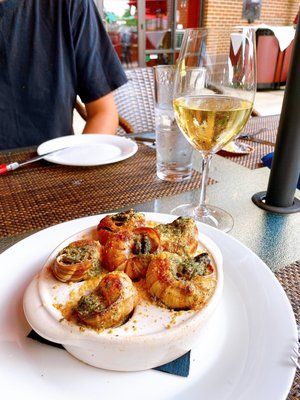pizza: (153, 65, 194, 182)
sushi: (23, 210, 224, 372)
